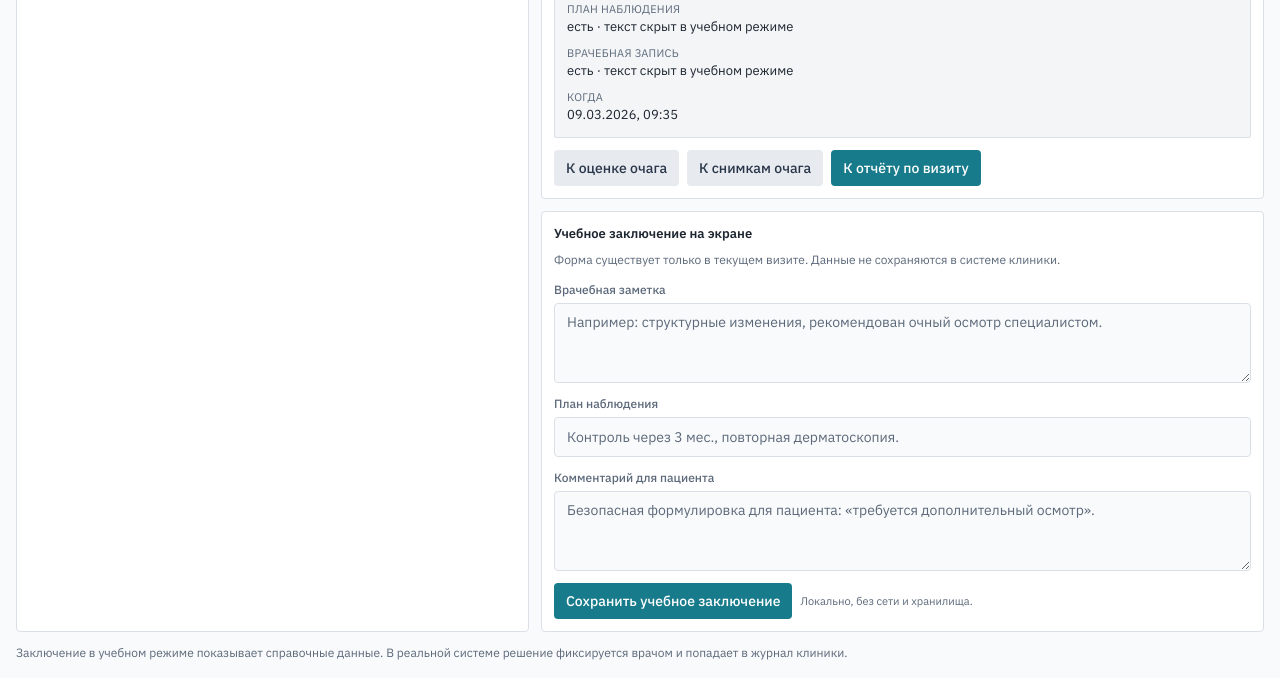
Test: VisitConclusionTab · learning conclusion form › patient-facing preview only contains the plain-language patient comment
The width and height of the screenshot is (1280, 678).
(page scrolled)
Replace the text in the text box labelled "Врачебная заметка" with "ABCD высокий, биопсия 10 дней." at (902, 343), box [554,303,1251,383]
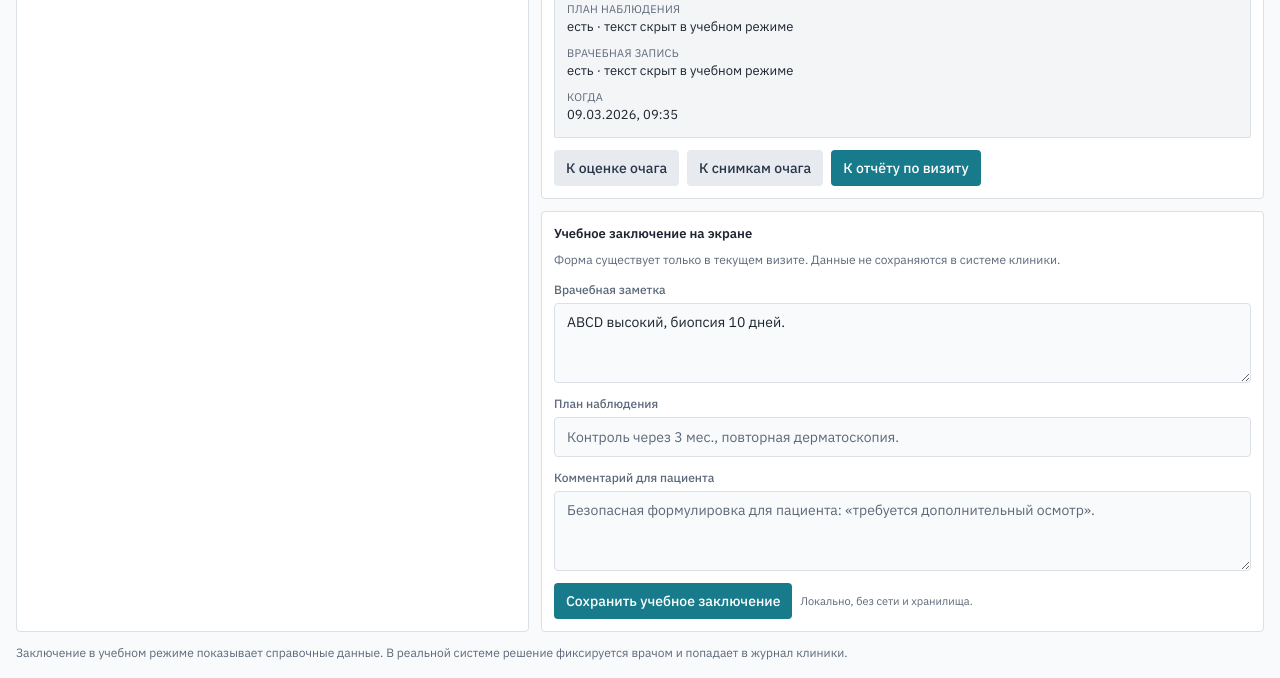
Replace the text in the text box labelled "Комментарий для пациента" with "Рекомендована очная консультация." at (902, 531), box [554,491,1251,571]
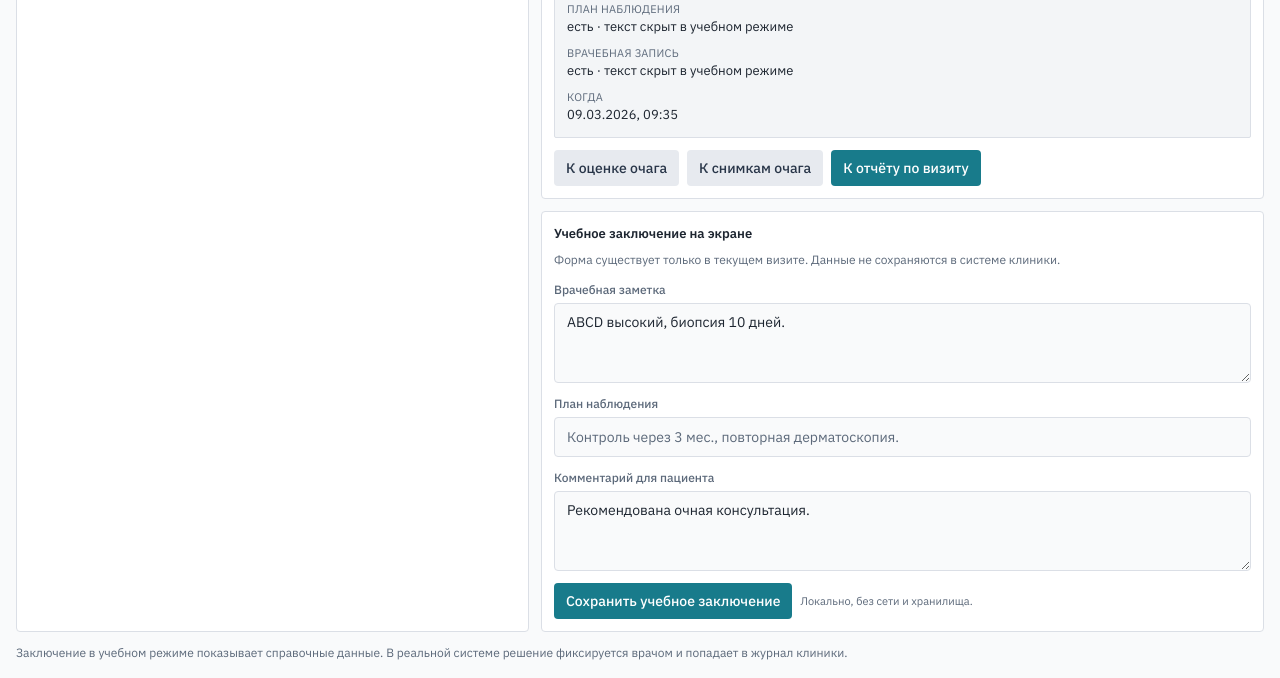
Click the button "Сохранить учебное заключение" at (673, 601), box [554,583,792,619]
(page scrolled)
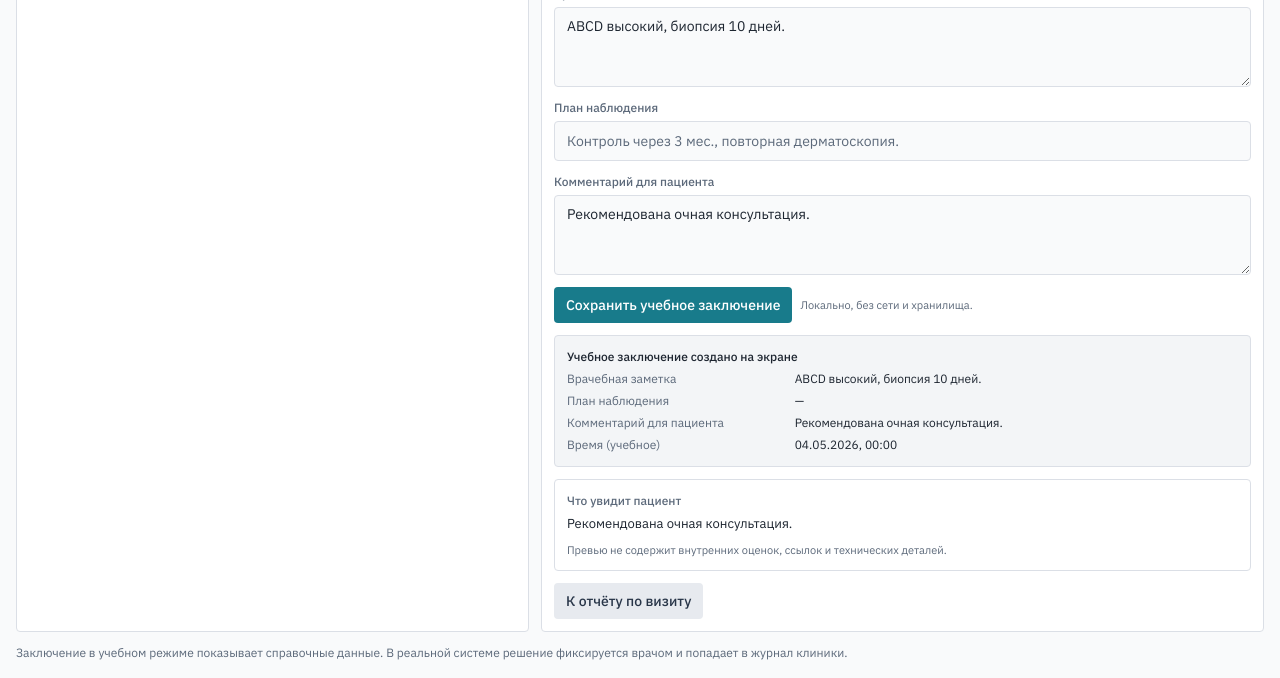
Expected: the element with test id "patient-facing-preview" does not show "ABCD"
Now the element with test id "patient-facing-preview" shows "Рекомендована очная консультация", box [567,515,792,532]
